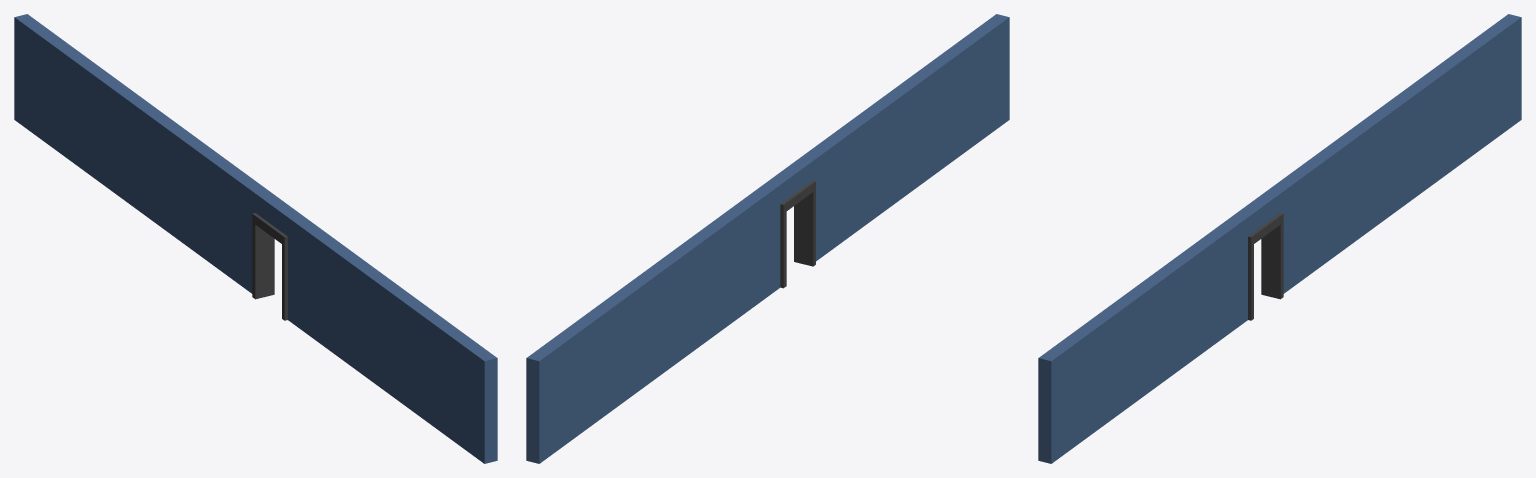
File: Structure_Wall_BottomFloorLeft_fbx_v01.fbx
3 views of the same model, side by side, from view 1: azimuth 30°, elevation 25°; view 2: azimuth 150°, elevation 25°; view 3: azimuth 330°, elevation 25° (orthographic).
Parts seen in each view (by area): view 1: Wall_BottomFloor_Left1; view 2: Wall_BottomFloor_Left1; view 3: Wall_BottomFloor_Left1.
Part boxes in pixels (x1,y1,x2,y2): Wall_BottomFloor_Left1: (14,14,497,463); Wall_BottomFloor_Left1: (526,14,1009,463); Wall_BottomFloor_Left1: (1038,14,1521,463).
Bounding box in the file's own units: 149 × 754 × 6253.
